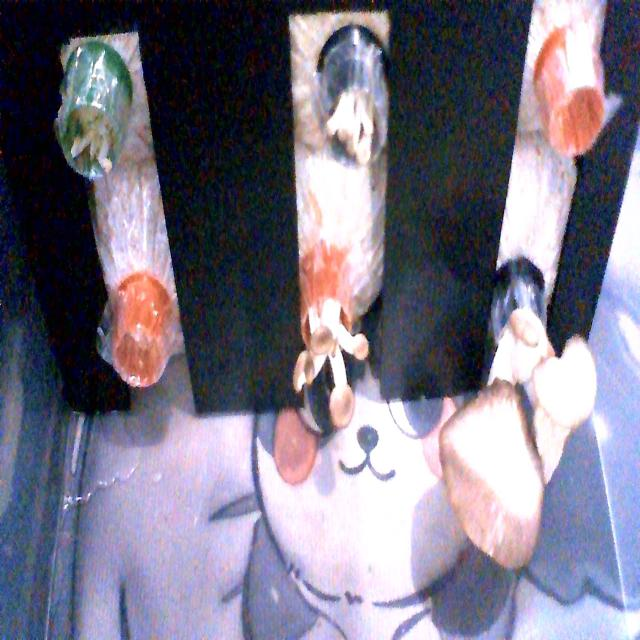big: (432, 297, 606, 560)
nfound: (49, 84, 139, 194), (94, 294, 182, 401), (534, 76, 618, 170)
small: (288, 282, 372, 420), (320, 70, 394, 191)
